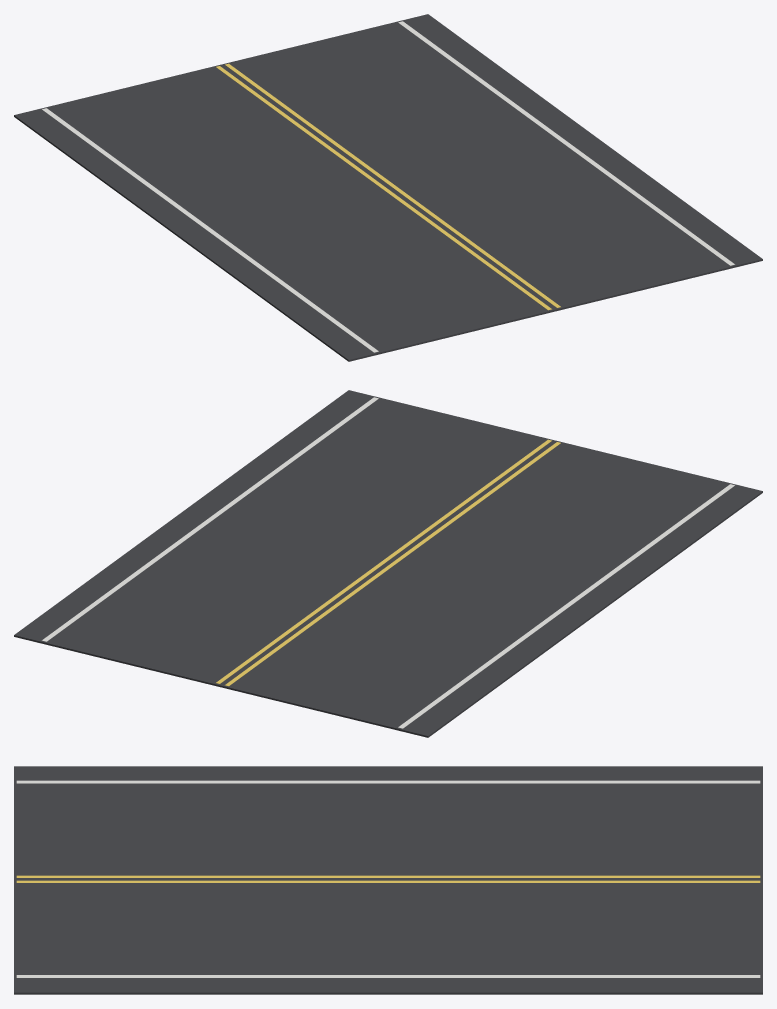
The model's file is SM_LA_Road_Straight.glb.
The picture shows the model from 3 angles, top to bottom: view 1: azimuth 30°, elevation 25°; view 2: azimuth 150°, elevation 25°; view 3: azimuth 270°, elevation 25°; orthographic projection. The views are drawn at different scales.
Visible parts, largest first — view 1: SM_LA_Road_Straight_Mesh; view 2: SM_LA_Road_Straight_Mesh; view 3: SM_LA_Road_Straight_Mesh.
Part boxes in pixels (x1,y1,x2,y2): SM_LA_Road_Straight_Mesh: (14, 14, 762, 361); SM_LA_Road_Straight_Mesh: (14, 390, 762, 737); SM_LA_Road_Straight_Mesh: (14, 766, 762, 994).
Size of what is drawn, in the model's own units: 10 by 0.045 by 14.
3 materials, 1 textured.
